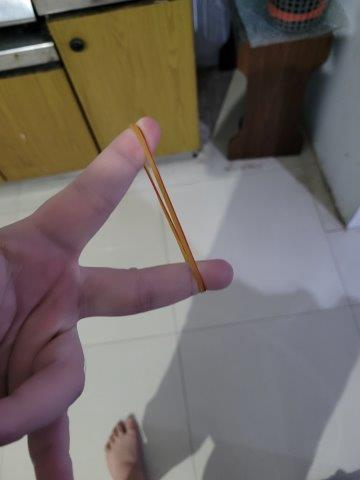karet: (129, 124, 209, 295)
